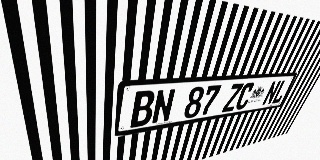7: (198, 85, 222, 116)
8: (182, 86, 207, 119)
B: (130, 90, 156, 128)
C: (234, 82, 256, 110)
L: (271, 80, 291, 104)
N: (151, 88, 176, 124), (261, 80, 282, 106)
Z: (221, 83, 244, 112)
